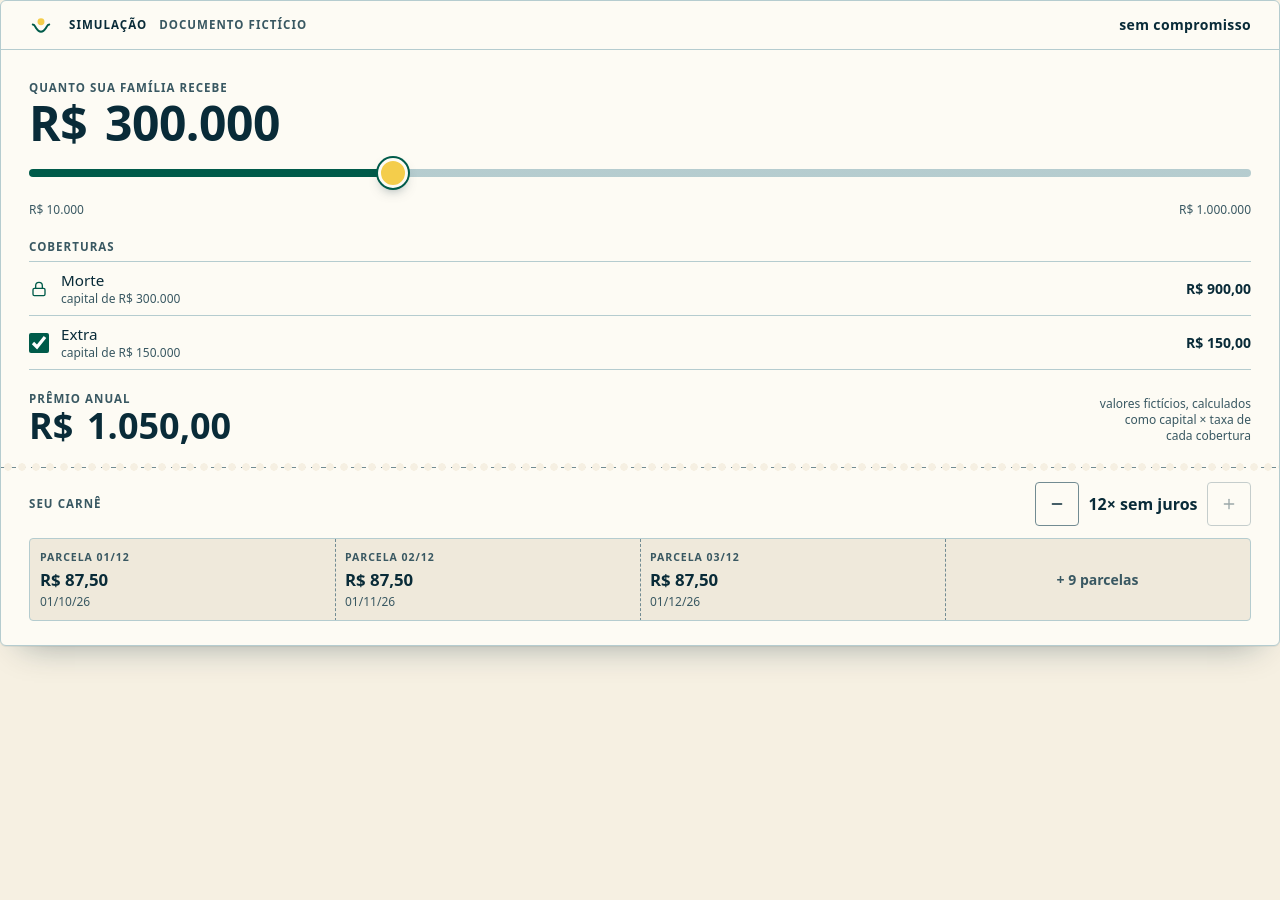
Test case: ApoliceViva › recalcula o prêmio ao mexer no capital e marca o valor que mudou
Set the slider labelled "Quanto sua família recebe" to "500000": [634, 173] box [29,151,1251,195]
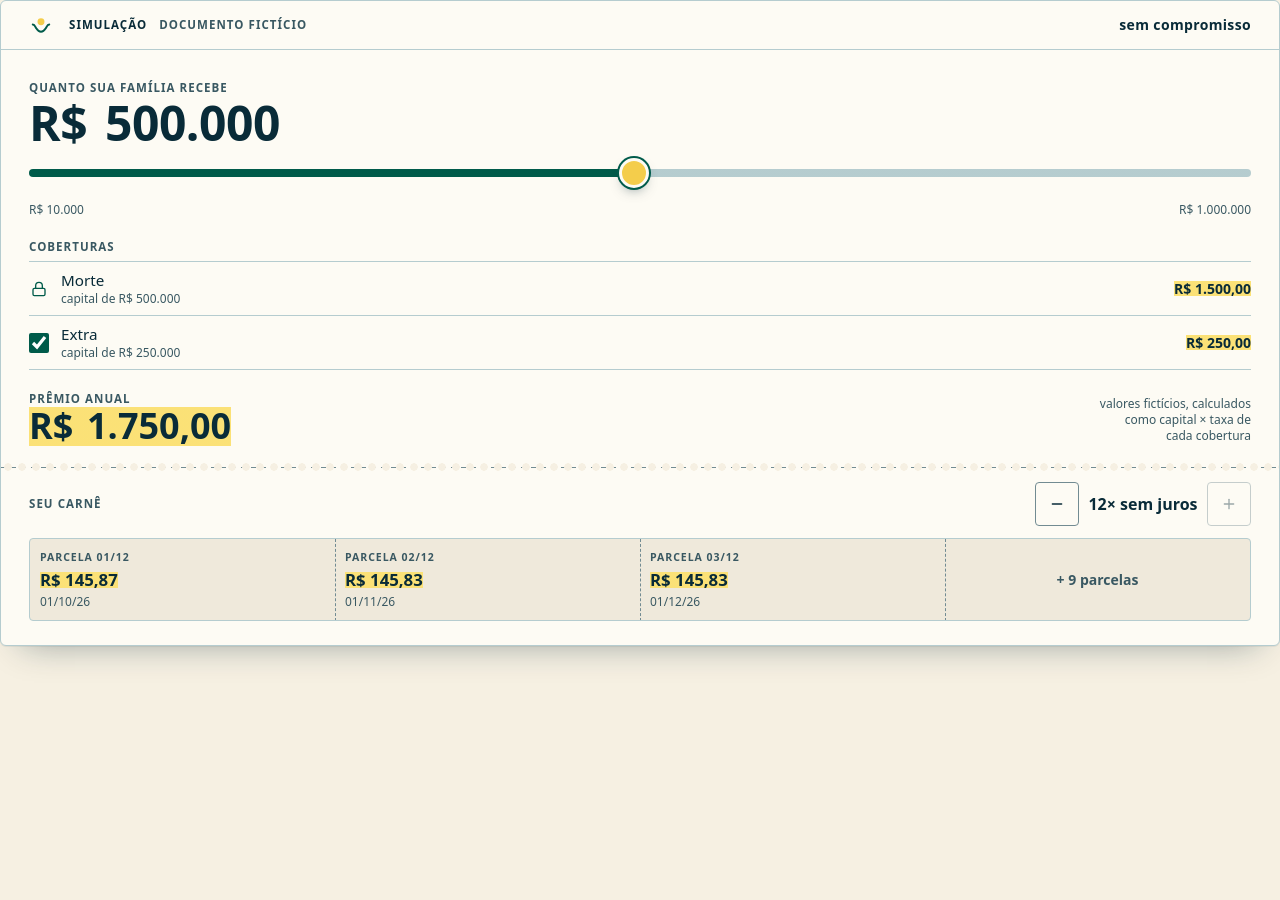
Check: the text "R$ 1.750,00" is shown, box [29,401,231,450]
